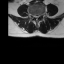CCS_normal: (35, 13, 37, 22)
LFS_stenosis: (39, 12, 41, 18)
LLS_stenosis: (37, 13, 39, 19)
RFS_normal: (32, 12, 34, 20)
RLS_stenosis: (34, 13, 35, 19)
